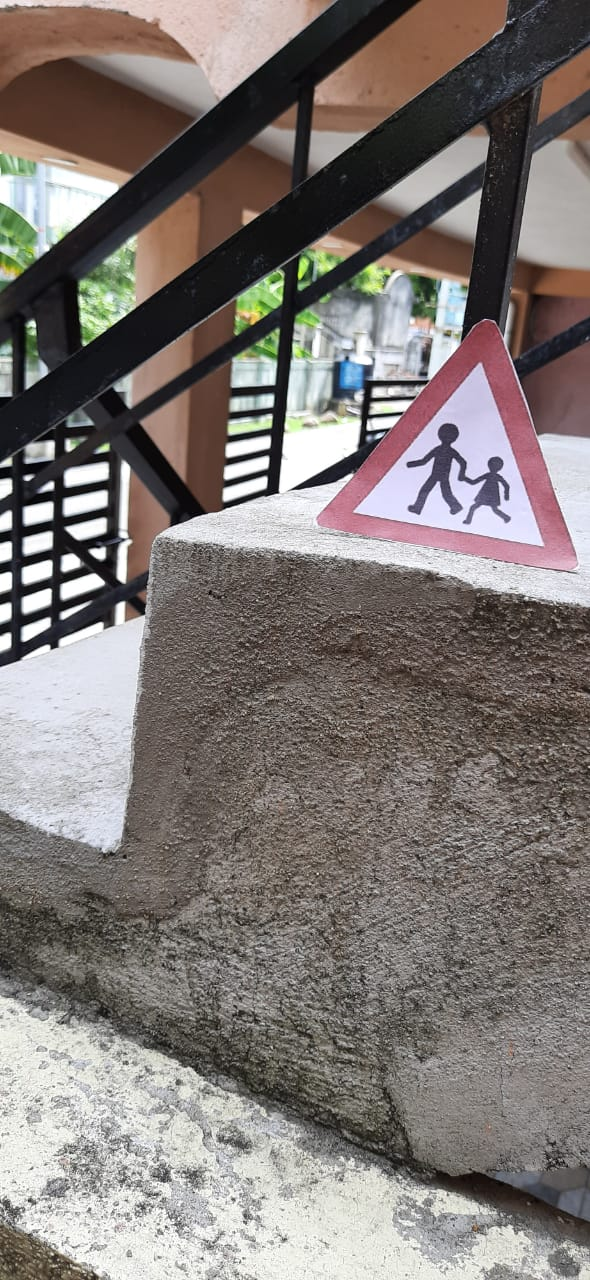SCHOOL ZONE: (313, 317, 590, 583)
